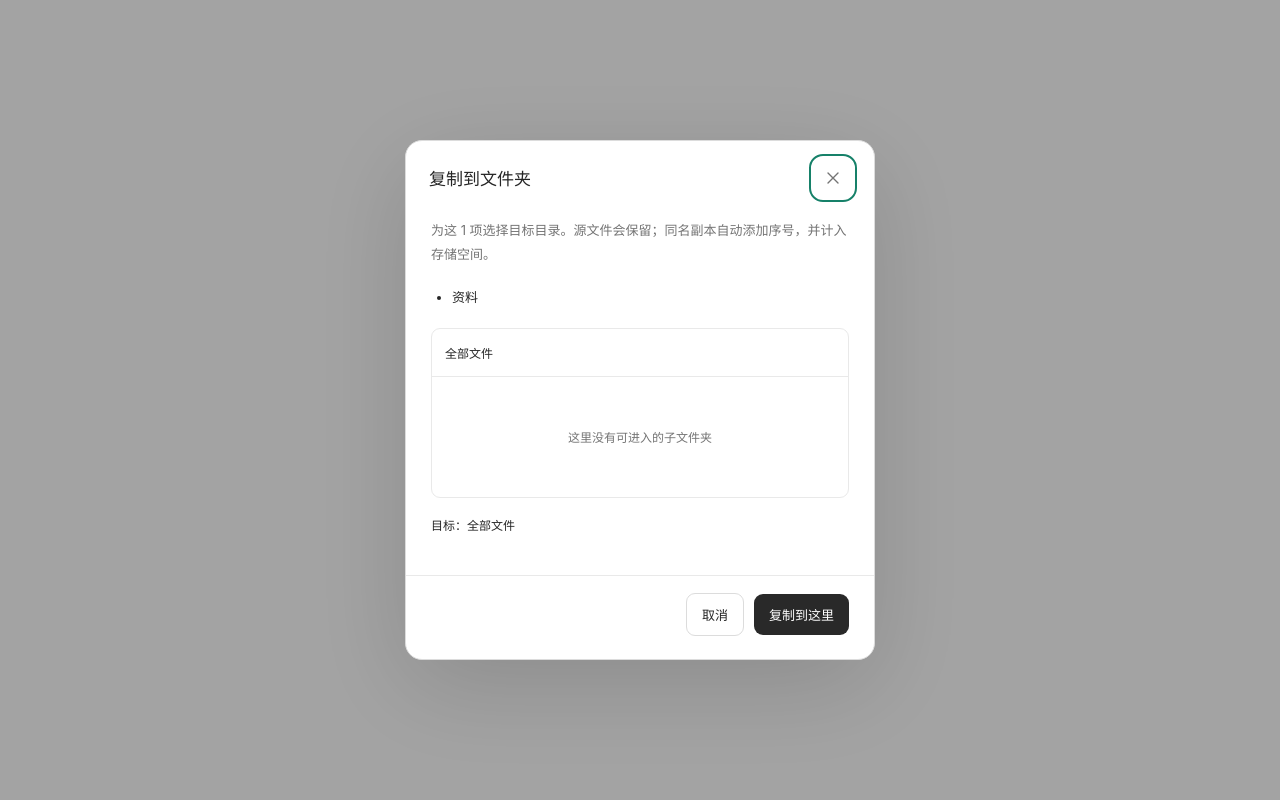
it: 可复用文件操作 › 复制对话框排除选中目录，并再次验证伪造的后代目标
Click the button "复制到这里" at point(802, 615), box [754,594,849,635]
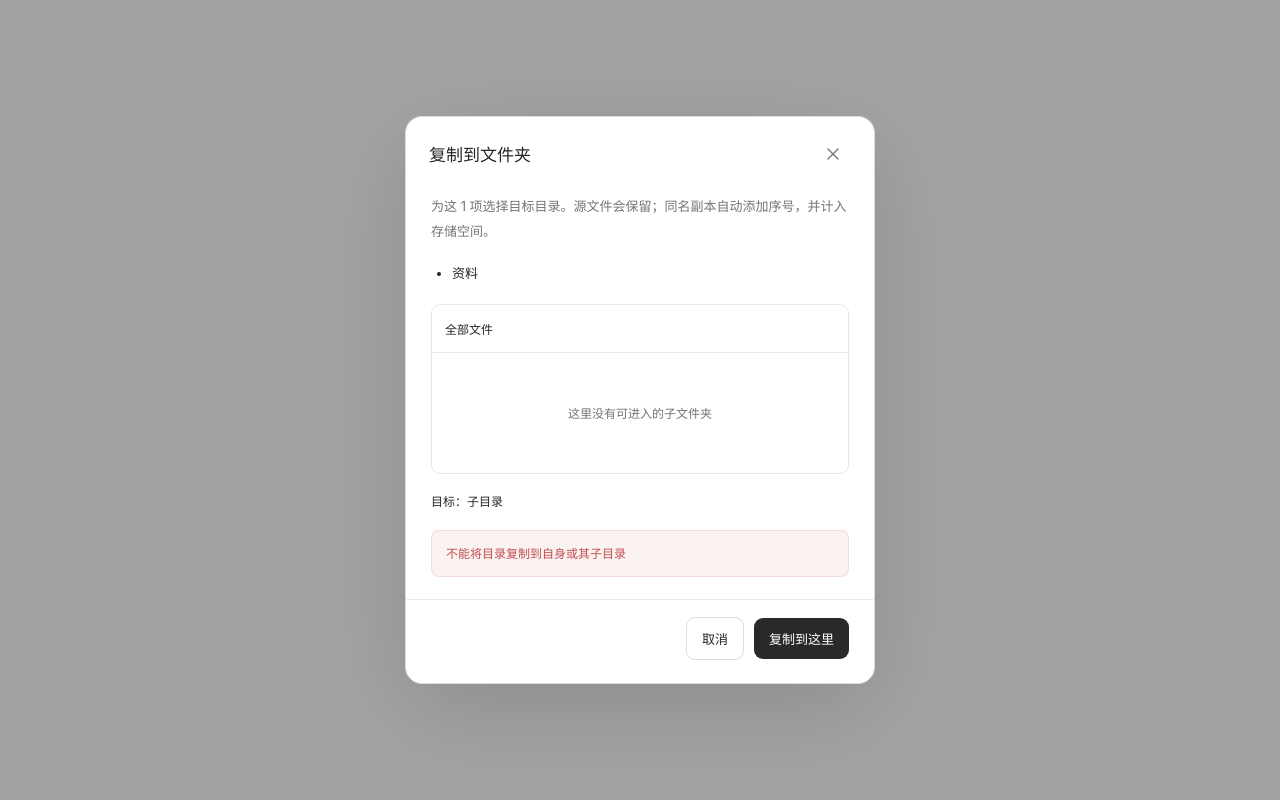
Now the text "不能将目录复制到自身或其子目录" is shown, box [431,530,849,577]
